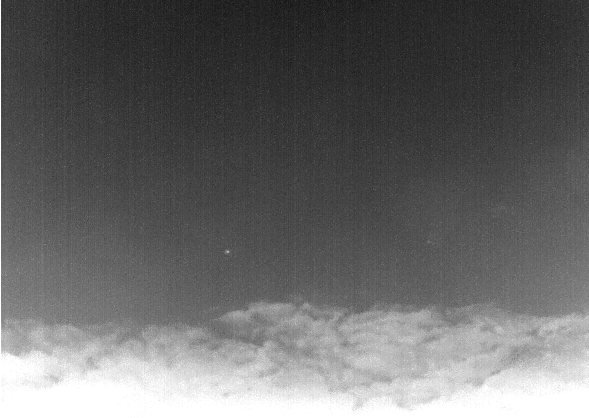dim target: (222, 248, 232, 255)
